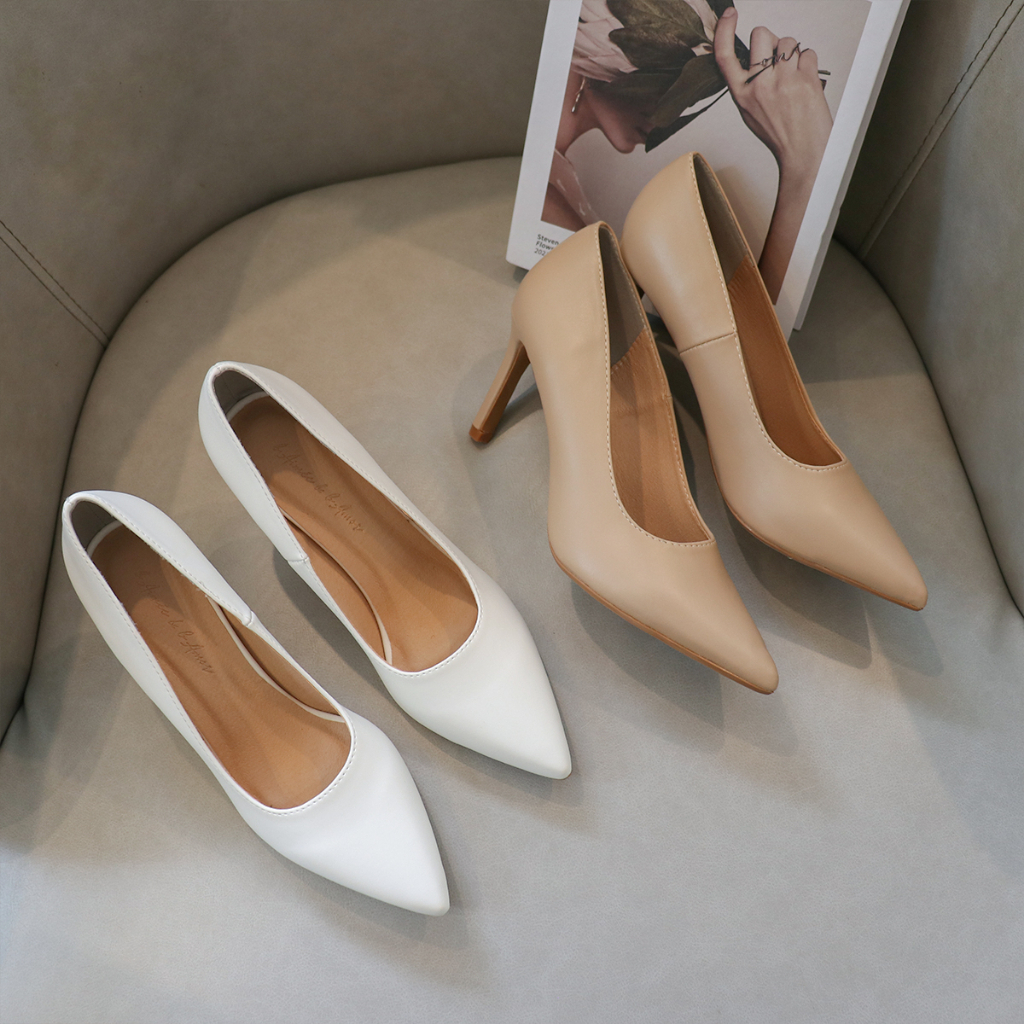high heels: (58, 490, 456, 919), (198, 361, 578, 782), (466, 219, 778, 693), (624, 153, 931, 607)
